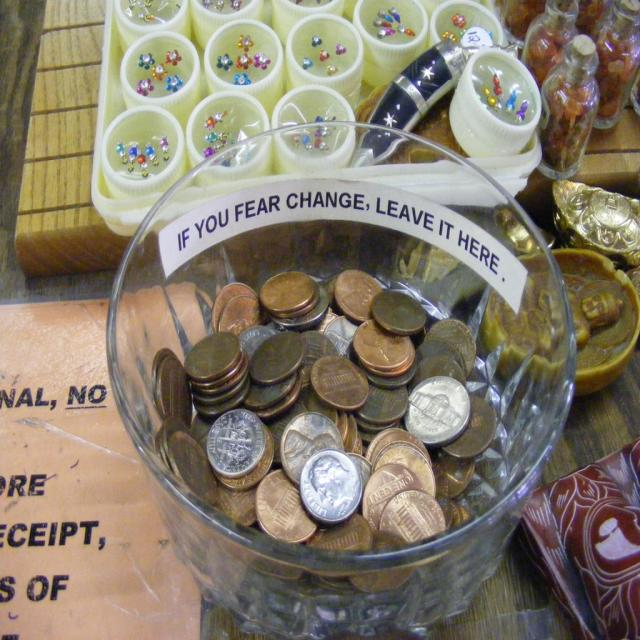Coin: (150, 271, 499, 639)
